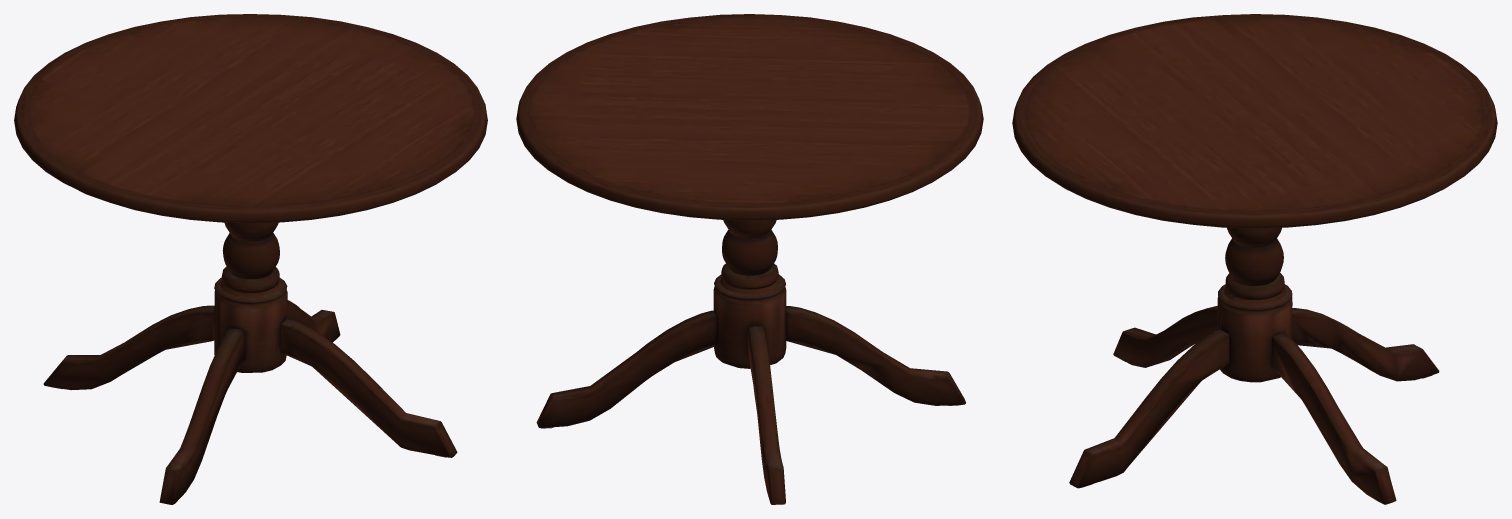
Rendered from round_wooden_table_01.glb.
The picture shows the model from 3 angles, left to right: view 1: azimuth 30°, elevation 25°; view 2: azimuth 150°, elevation 25°; view 3: azimuth 270°, elevation 25°; orthographic projection. The views are drawn at different scales.
Parts seen in each view (by area): view 1: round_wooden_table_01_lo, round_wooden_table_01; view 2: round_wooden_table_01_lo, round_wooden_table_01; view 3: round_wooden_table_01_lo, round_wooden_table_01.
Boxes of the visible parts, <box> form: round_wooden_table_01_lo: <box>29,18,472,470</box>; round_wooden_table_01: <box>14,14,487,504</box>; round_wooden_table_01_lo: <box>531,18,968,468</box>; round_wooden_table_01: <box>516,14,983,504</box>; round_wooden_table_01_lo: <box>1027,18,1482,484</box>; round_wooden_table_01: <box>1012,14,1497,504</box>.
Bounding box in the file's own units: 1.4 × 1 × 1.4.
1 material, 1 textured.
